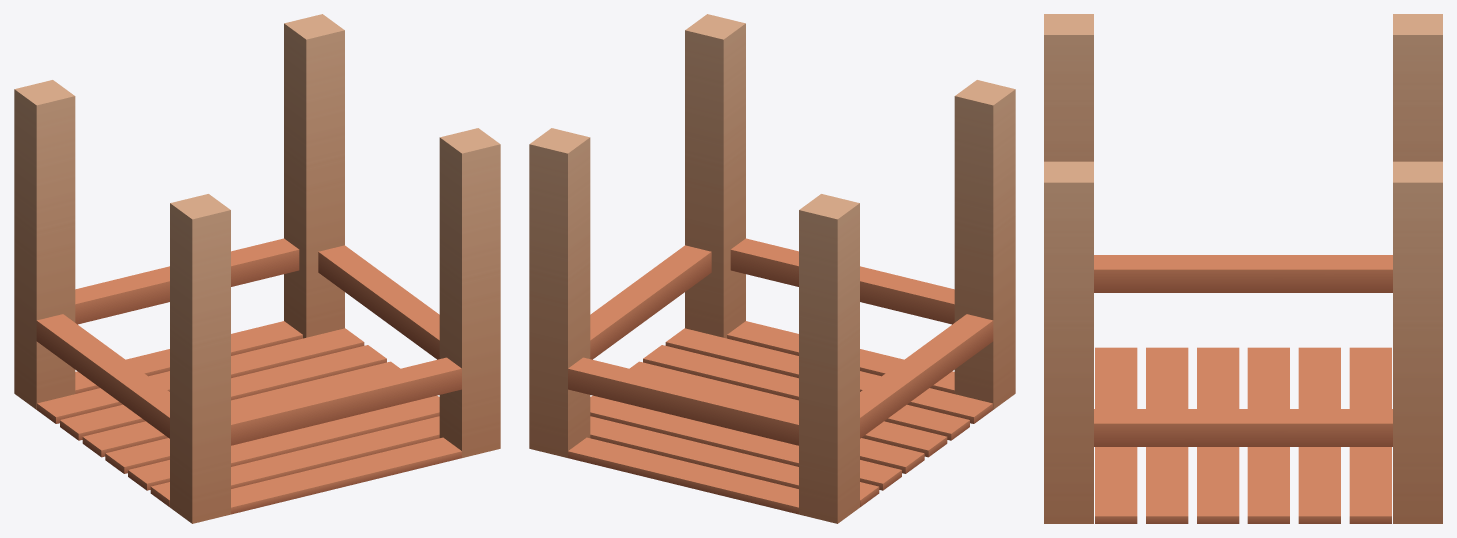
The model's file is tower-square-mid-open-simple.obj.
3 renders of one model, left to right at view 1: azimuth 30°, elevation 25°; view 2: azimuth 150°, elevation 25°; view 3: azimuth 270°, elevation 25°, orthographic. The views are drawn at different scales.
Visible parts, largest first — view 1: tower-square-mid-open-simple; view 2: tower-square-mid-open-simple; view 3: tower-square-mid-open-simple.
Part boxes in pixels (bbox=[...]): tower-square-mid-open-simple: bbox=[14, 14, 500, 523]; tower-square-mid-open-simple: bbox=[529, 14, 1015, 523]; tower-square-mid-open-simple: bbox=[1044, 14, 1442, 523].
Size of the model in its own units: 0.93 by 0.8782 by 0.93.
1 material, 1 textured.
